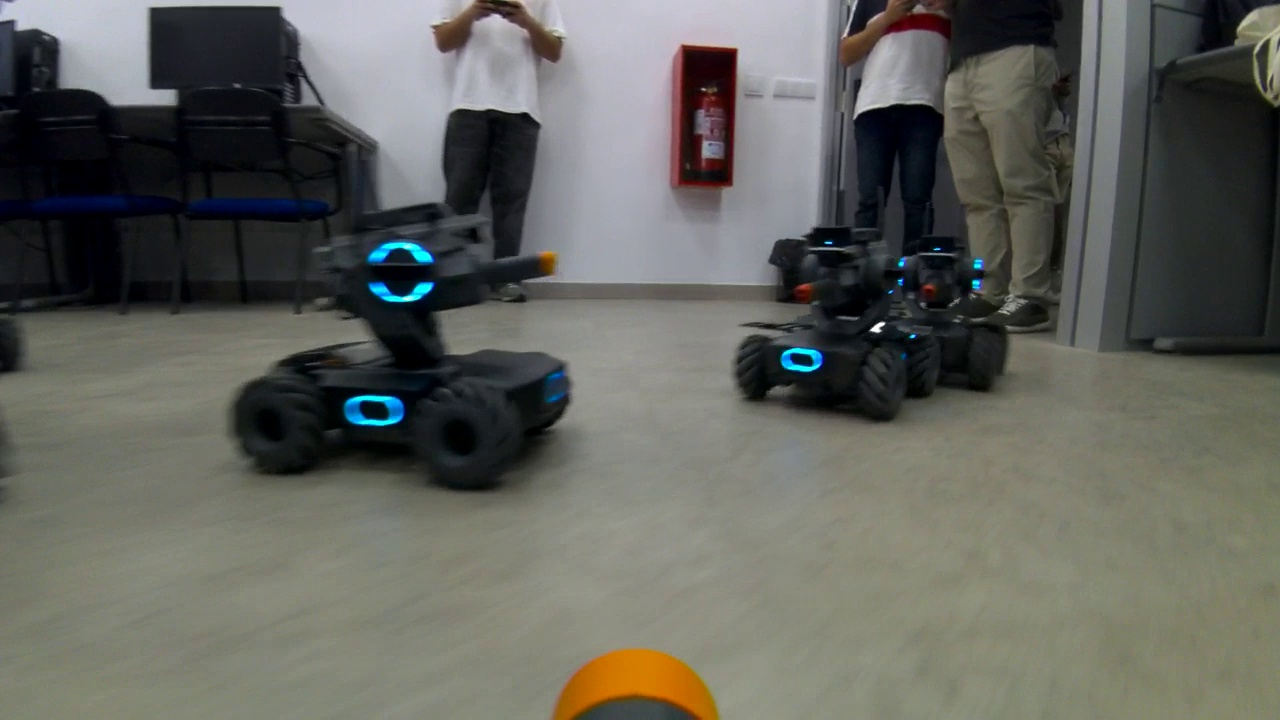robot: (222, 145, 586, 493), (735, 192, 943, 423), (892, 244, 1017, 397)
